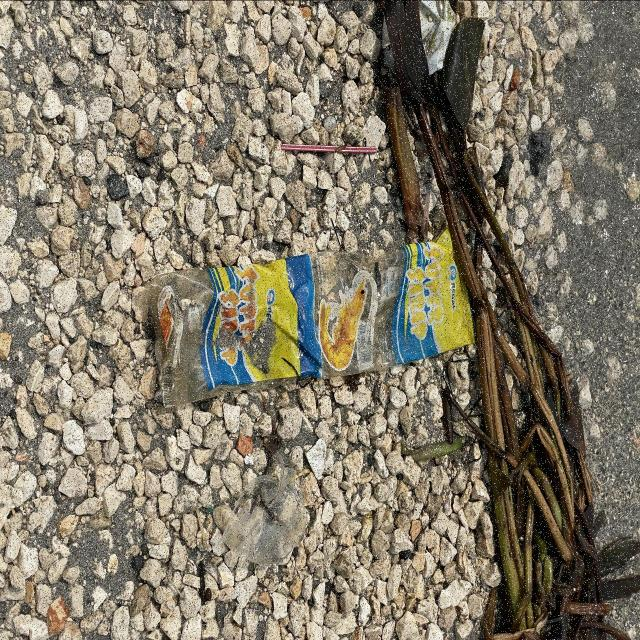plastic_waste: (146, 233, 477, 408)
